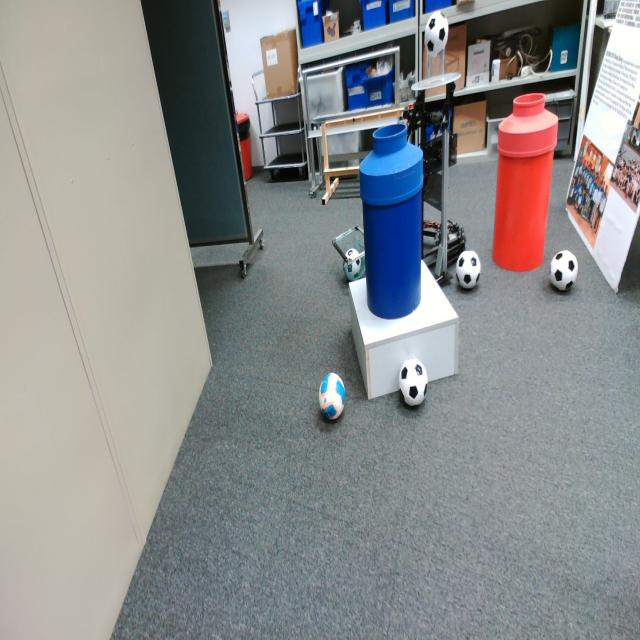ball: (398, 358, 428, 409), (318, 374, 346, 421), (549, 249, 579, 292), (426, 11, 448, 56), (457, 250, 481, 289), (344, 248, 362, 280)
